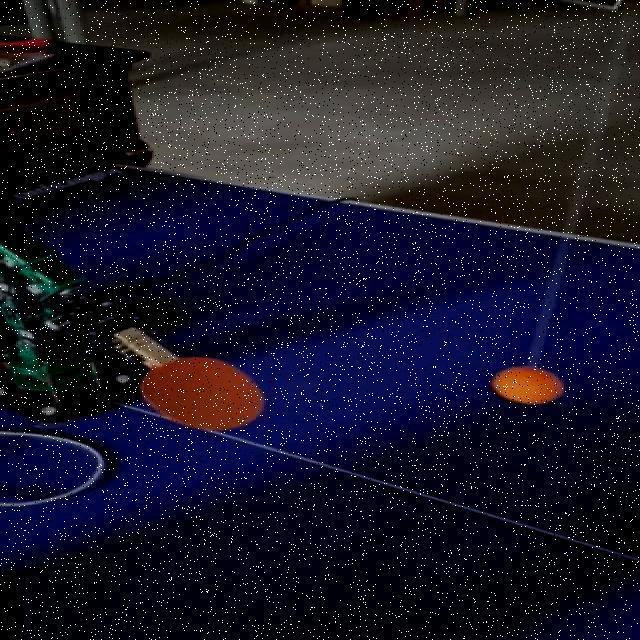ping-pong-ball: (490, 367, 560, 401)
